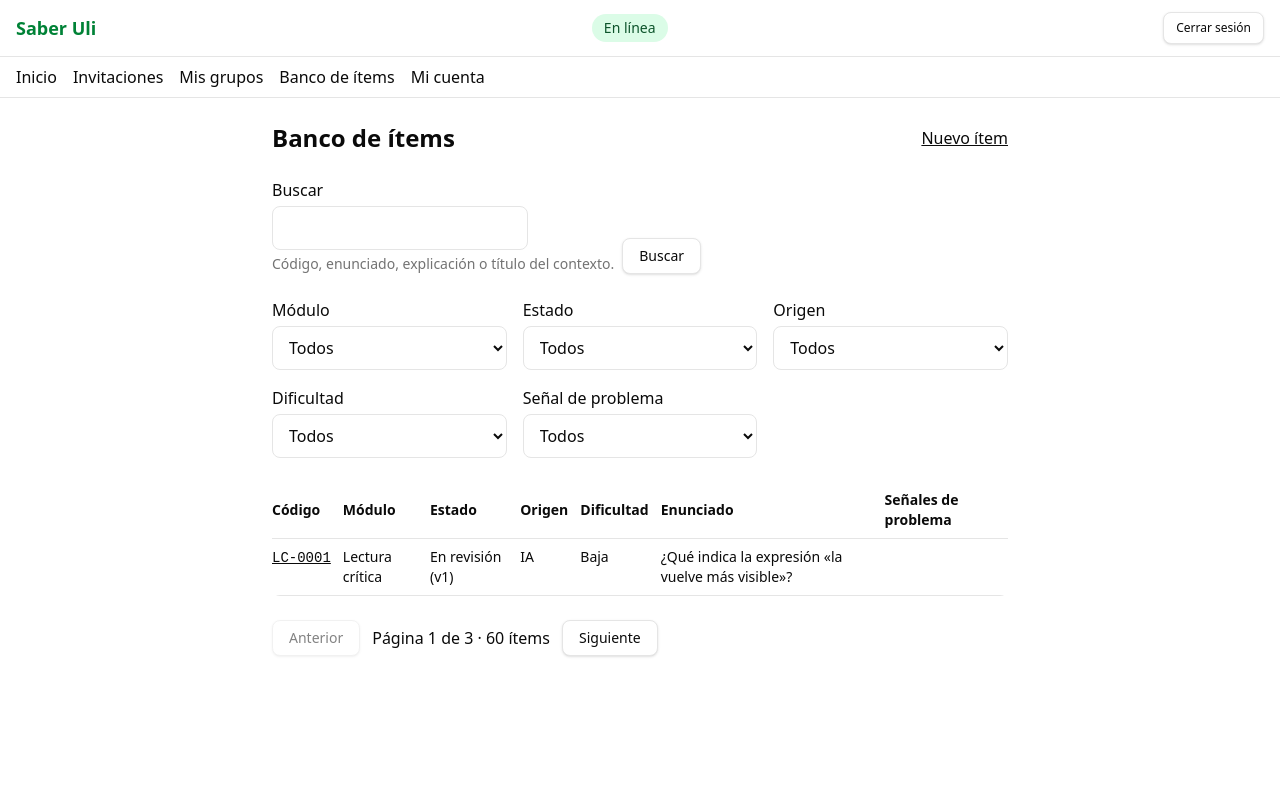
Test case: lista del banco › pagina con el total
The width and height of the screenshot is (1280, 800).
Expected: the text "Página 1 de 3 · 60 ítems" is shown, [372,626,550,650]
Expected: the button "Anterior" is disabled, [272,620,360,656]
Click the button "Siguiente". click: (610, 638)
box: [562,620,658,656]
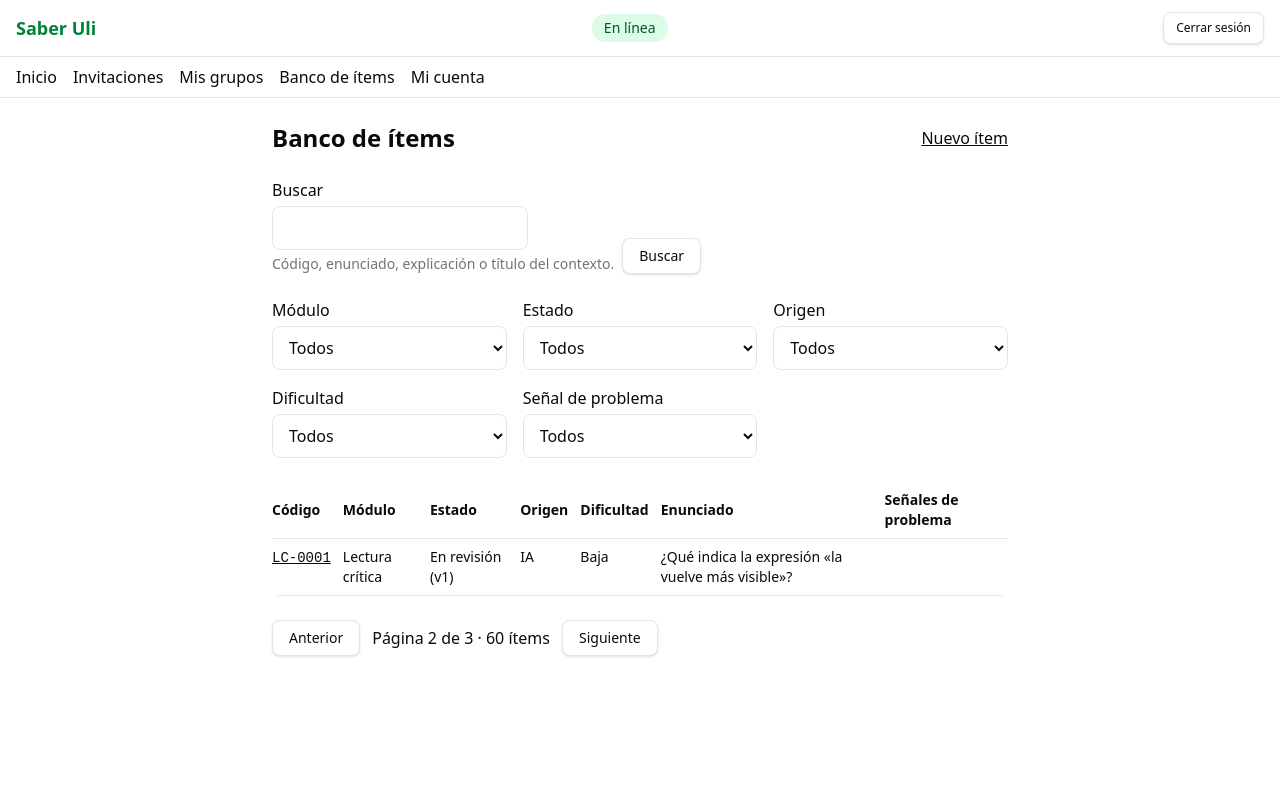
Result: the text "Página 2 de 3 · 60 ítems" is shown at [372,626,550,650]
